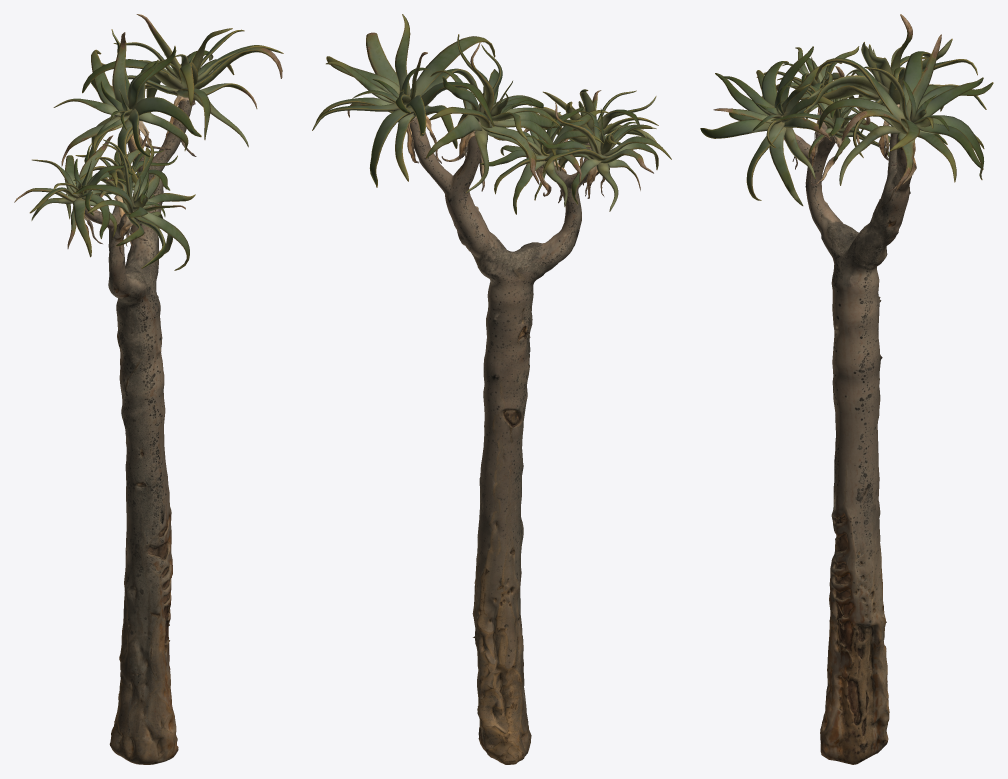
File: quiver_tree_01.glb
The picture shows the model from 3 angles, left to right: view 1: azimuth 30°, elevation 25°; view 2: azimuth 150°, elevation 25°; view 3: azimuth 270°, elevation 25°; orthographic projection. The views are drawn at different scales.
Visible parts, largest first — view 1: quiver_tree_01; view 2: quiver_tree_01; view 3: quiver_tree_01.
Part boxes in pixels (left/top/right/bottom): quiver_tree_01: left=14, top=14, right=283, bottom=764; quiver_tree_01: left=312, top=14, right=671, bottom=764; quiver_tree_01: left=700, top=14, right=993, bottom=764.
Bounding box in the file's own units: 1.18 × 2.72 × 0.9683.
Materials: 2 (2 with a texture image).
